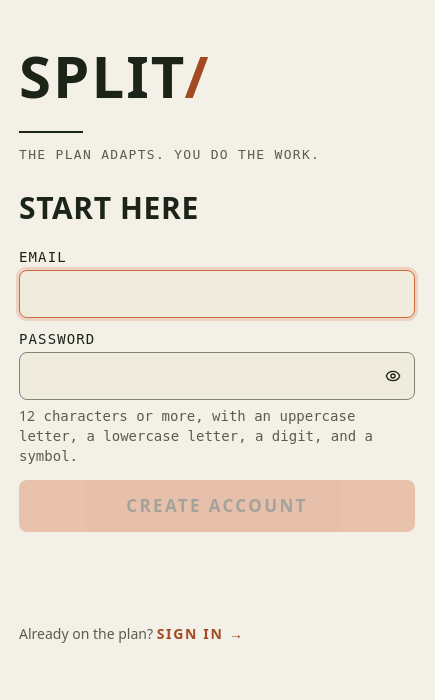
Test: RegisterPage › server-side error surfacing › falls back to a generic alert when the server omits a title
The width and height of the screenshot is (435, 700).
Type "runner@example.com" into the field labelled "Email" at coordinates (217, 294), box [19,270,415,318]
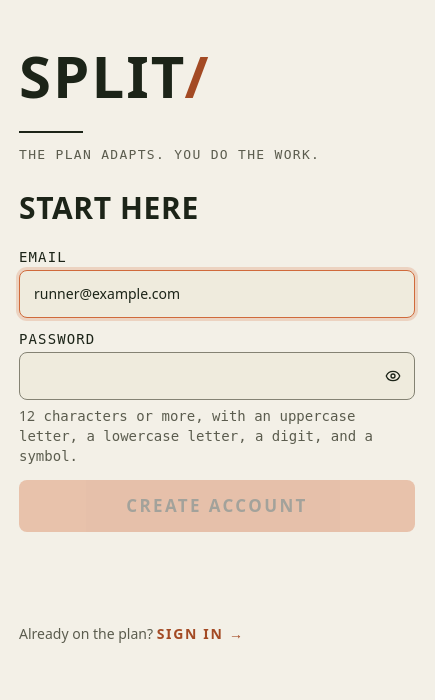
Type "StrongPassw0rd!" into the password field labelled "Password" at coordinates (217, 376), box [19,352,415,400]
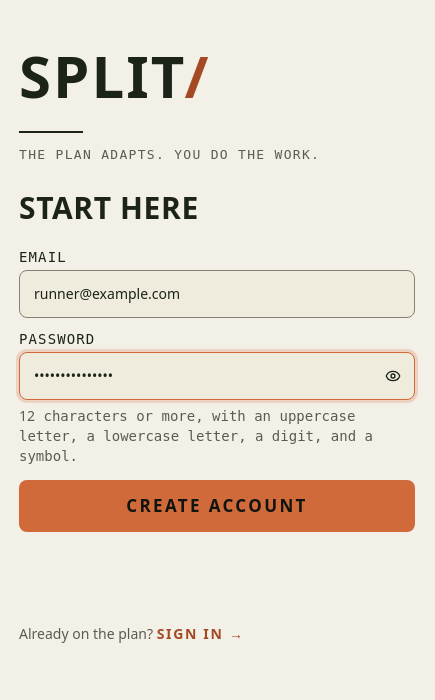
Expected: the button "Create account" is enabled
Click the button "Create account" at coordinates (217, 506), box [19,480,415,532]
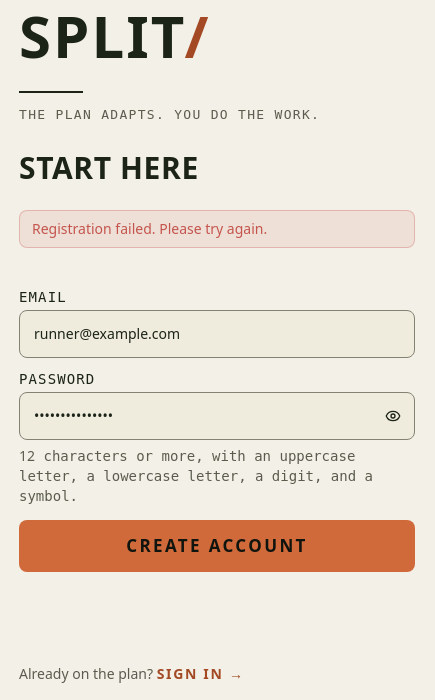
Expected: the message with test id "form-alert" shows "Registration failed", [32,219,267,238]
